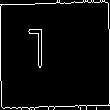L_S: (47, 28, 63, 82)
